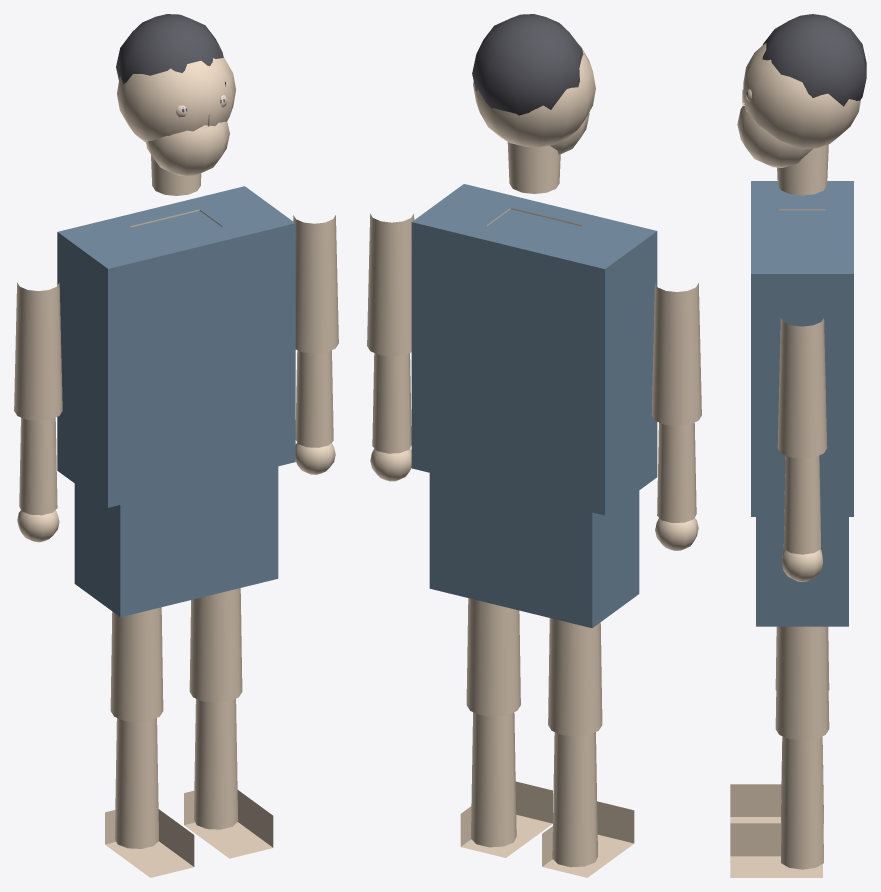
Rendered from body.glb.
The picture shows the model from 3 angles, left to right: view 1: azimuth 30°, elevation 25°; view 2: azimuth 150°, elevation 25°; view 3: azimuth 270°, elevation 25°; orthographic projection. The views are drawn at different scales.
Parts seen in each view (by area): view 1: Cloth, Skin, Hair; view 2: Cloth, Skin, Hair; view 3: Skin, Cloth, Hair.
Boxes of the visible parts, x1,y1,x2,y2 form: Cloth: [57, 186, 295, 617]; Skin: [14, 58, 338, 877]; Hair: [116, 14, 225, 86]; Cloth: [411, 184, 657, 628]; Skin: [367, 44, 701, 877]; Hair: [472, 14, 583, 115]; Skin: [730, 43, 860, 877]; Cloth: [751, 181, 853, 626]; Hair: [762, 14, 866, 106].
Size of the model in its own units: 0.7251 by 1.77 by 0.2646.
